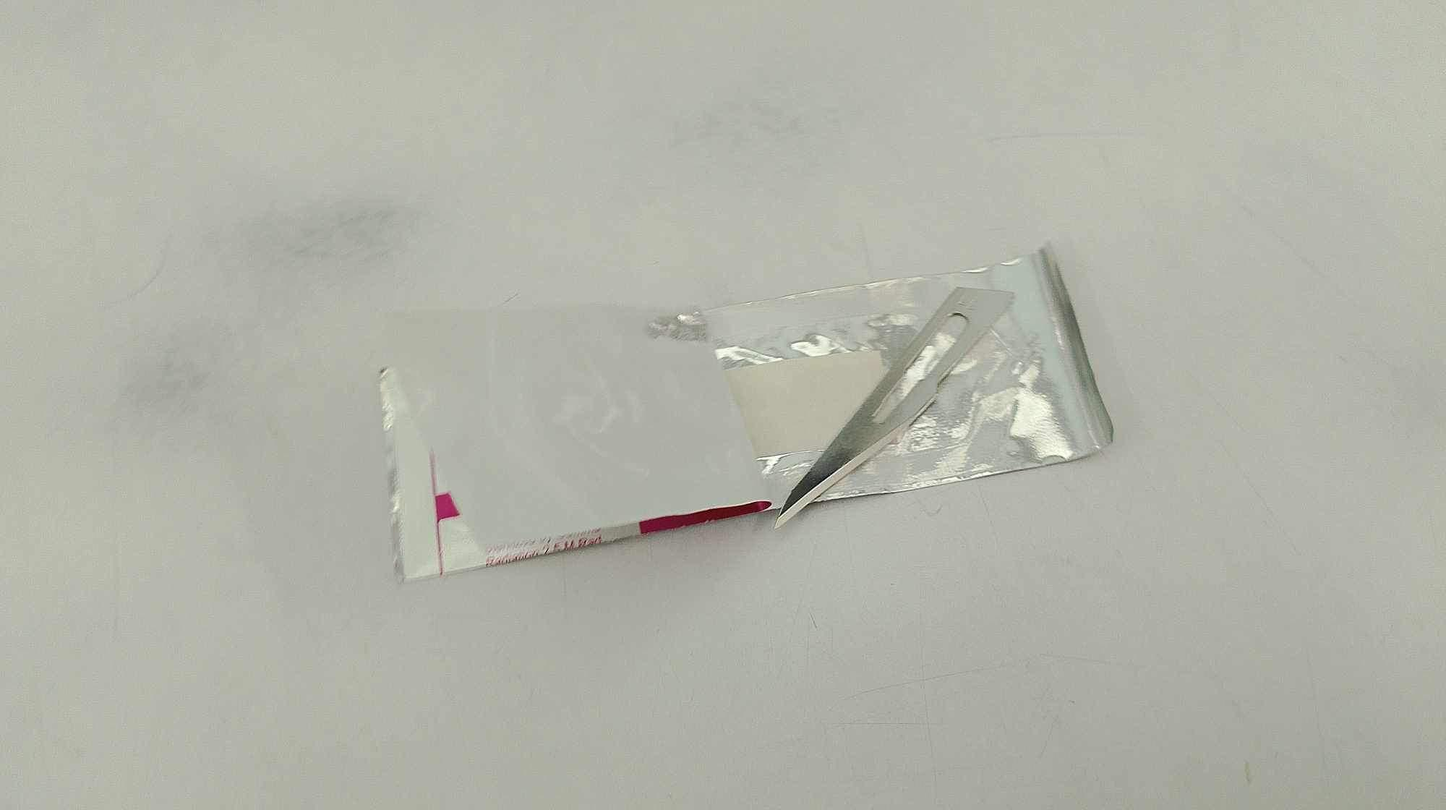General: (372, 240, 1117, 585)
